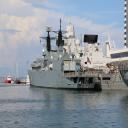Fragata: (28, 24, 101, 94)
